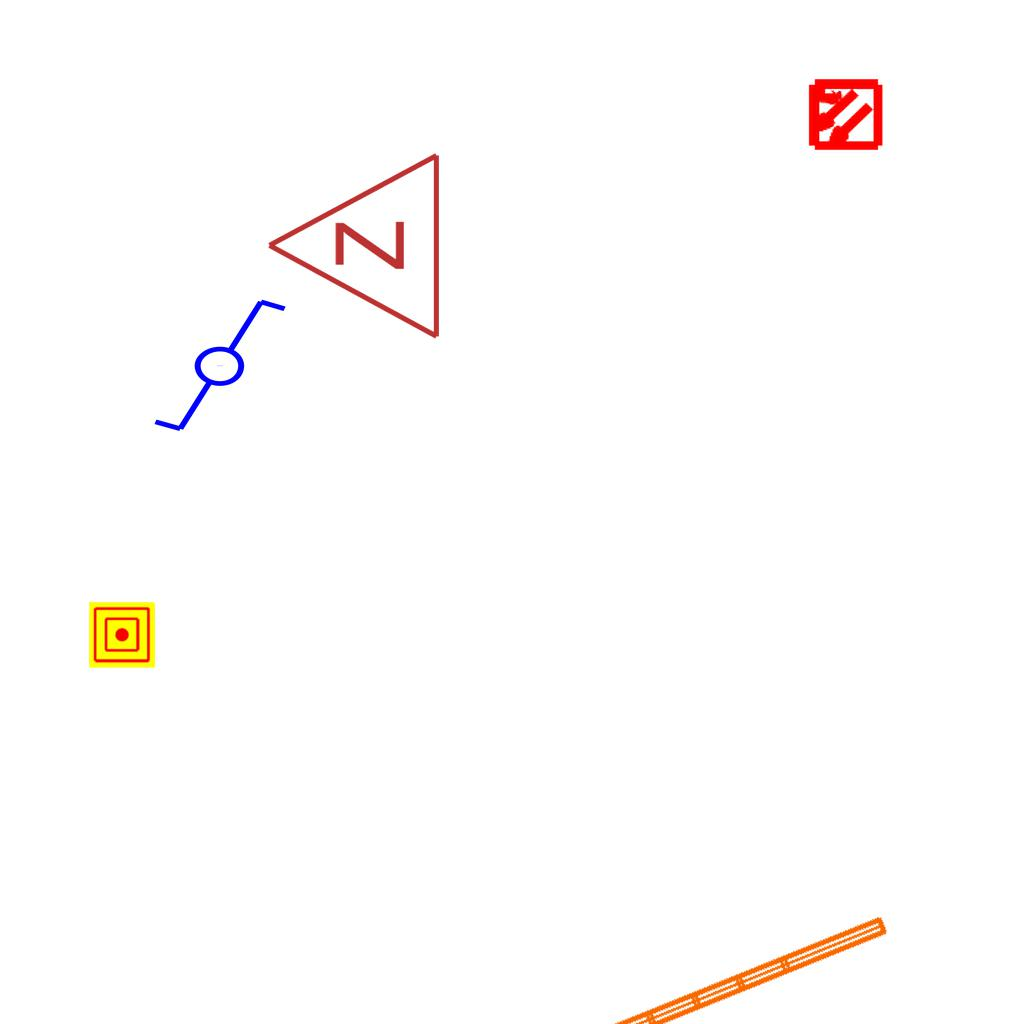Ambulanz_Pendelleuchte_LED: (524, 908, 905, 1024)
NAM-Nichtautomatischer_Melder: (89, 602, 155, 668)
OT_Multisensormelder_(Kombination_RMO_WMD): (787, 58, 900, 171)
Wechselschalter: (133, 292, 290, 436)
Zimmersignalleuchte: (254, 150, 454, 346)
